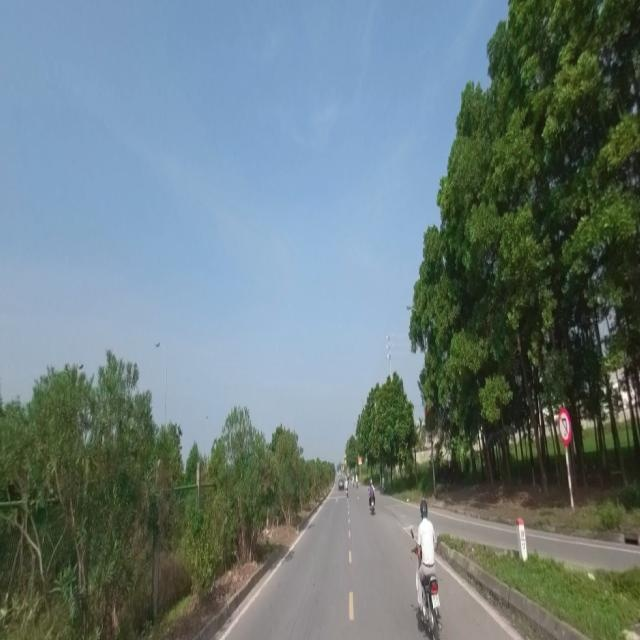bien_cam: (558, 408, 572, 444)
